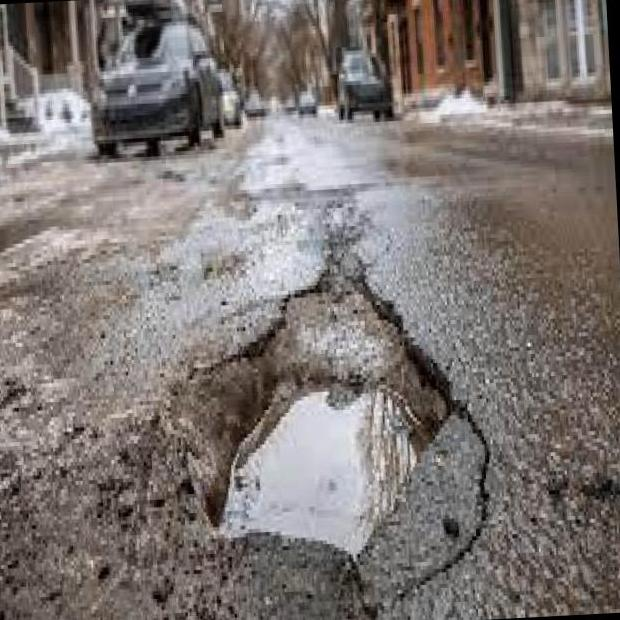pothole: (158, 209, 484, 593)
